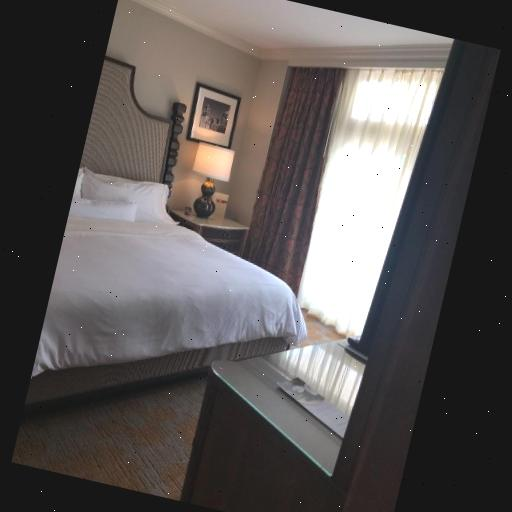clean_bed: (20, 58, 298, 404)
lamp: (173, 132, 253, 226)
organised_pillow: (68, 165, 188, 236)
organized table: (178, 336, 366, 512)
